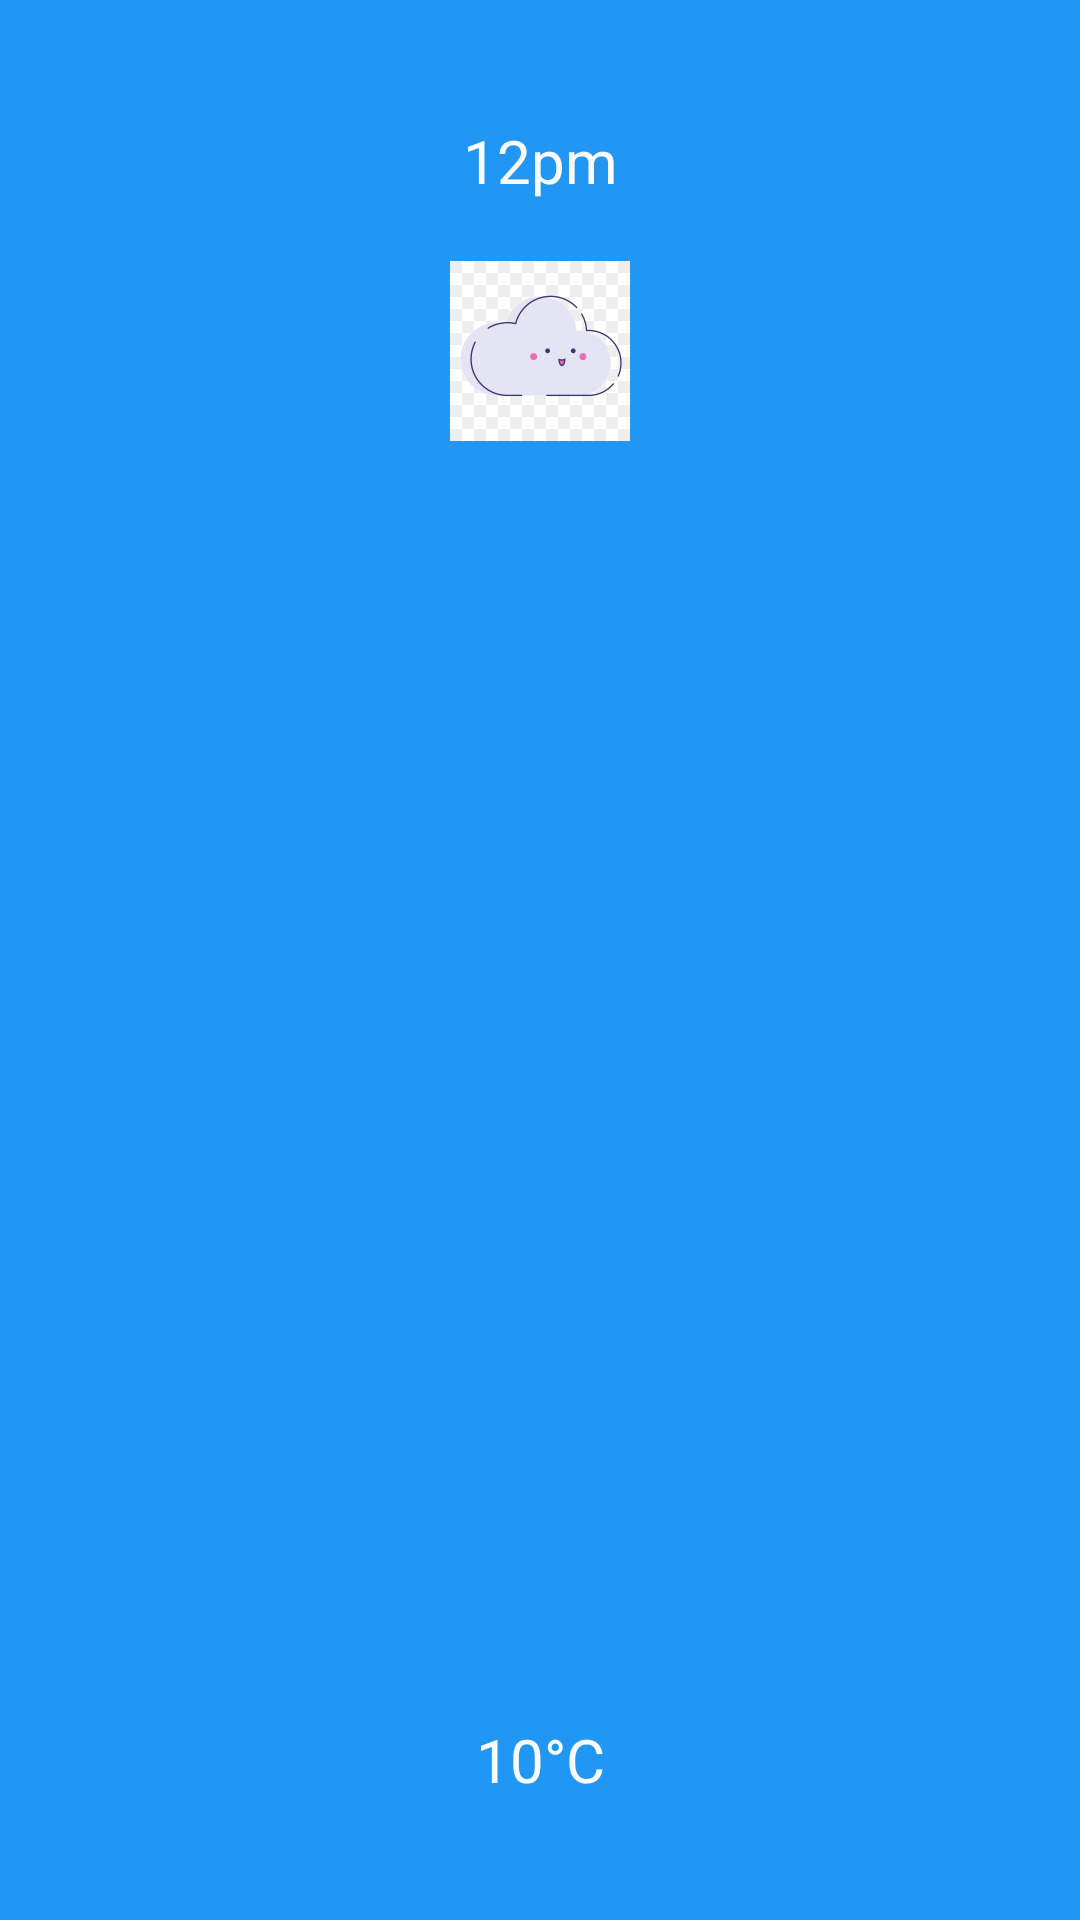

Screen size 1080w x 1920h. Icon name, then its center in pixels as (x=x, y=y):
cloud: (x=540, y=351)
